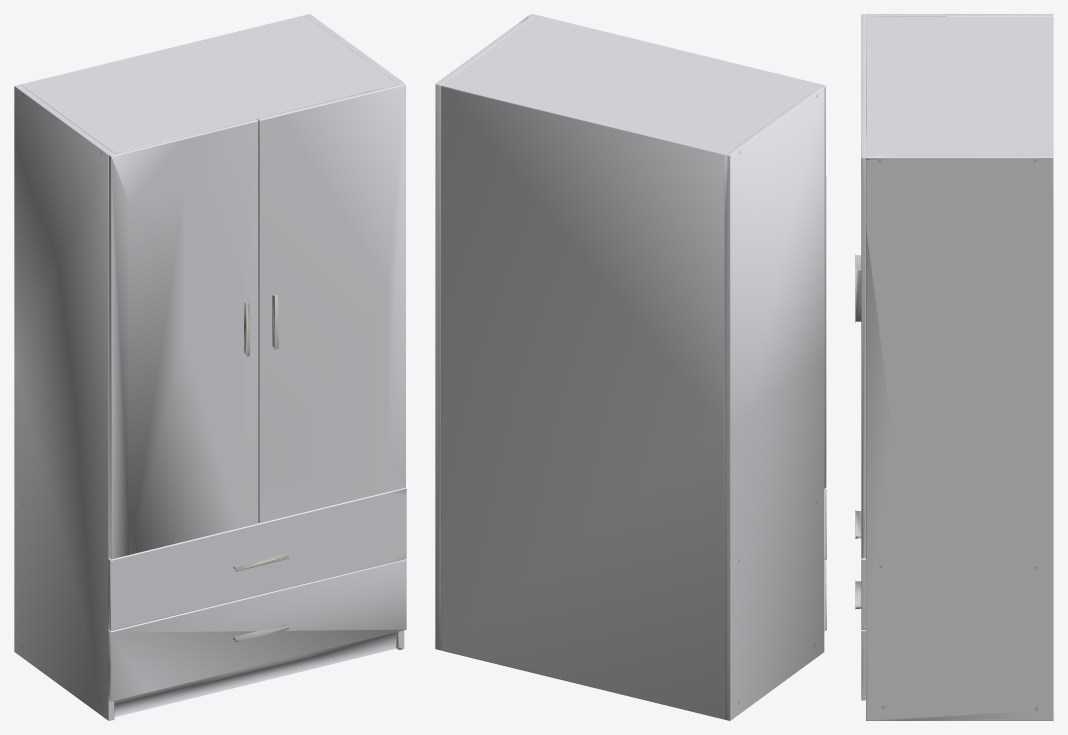
Rendered from B07GFFPKFV.glb.
3 renders of one model, left to right at view 1: azimuth 30°, elevation 25°; view 2: azimuth 150°, elevation 25°; view 3: azimuth 270°, elevation 25°, orthographic.
Visible parts, largest first — view 1: Root; view 2: Root; view 3: Root.
Part boxes in pixels (x1=…): Root: x1=14, y1=14, x2=406, y2=720; Root: x1=435, y1=14, x2=826, y2=720; Root: x1=855, y1=14, x2=1053, y2=720.
Bounding box in the file's own units: 0.9906 × 1.81 × 0.5771.
Materials: 1 (1 with a texture image).
